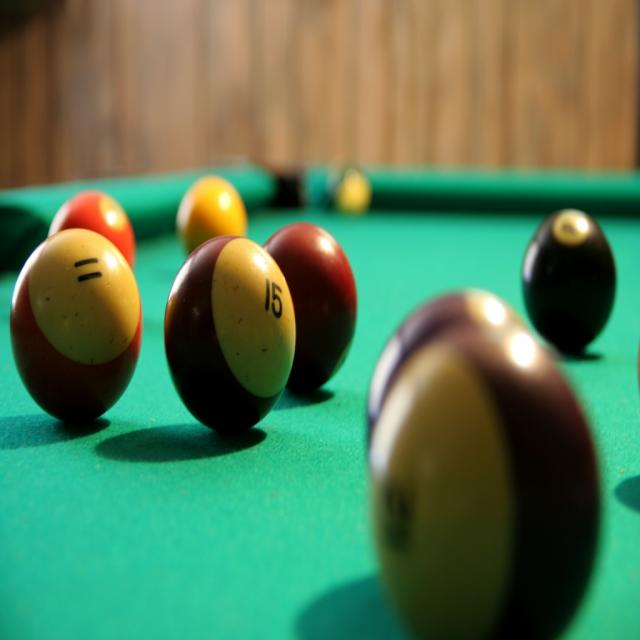Ball: (9, 158, 640, 640)
Billiard table: (0, 167, 640, 640)
